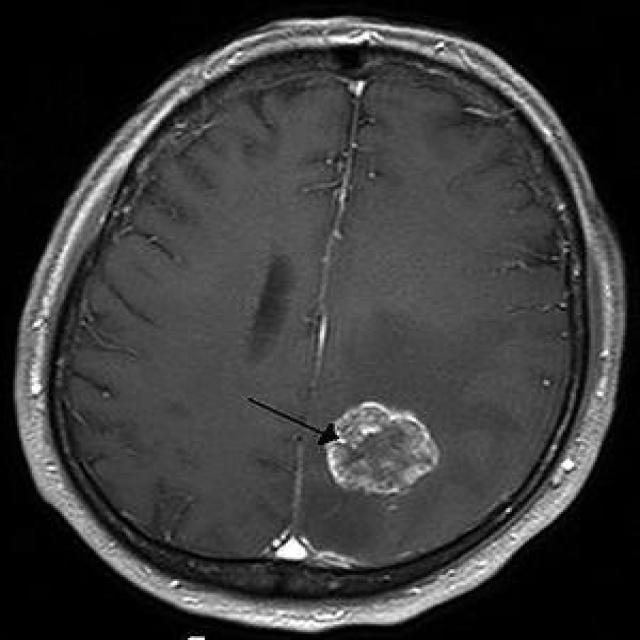Tumor-Cell: (310, 377, 456, 514)
